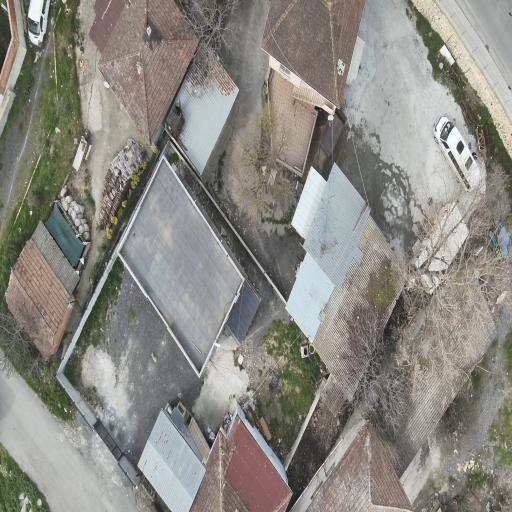car: (434, 117, 484, 191), (28, 0, 50, 46), (490, 221, 510, 258)
